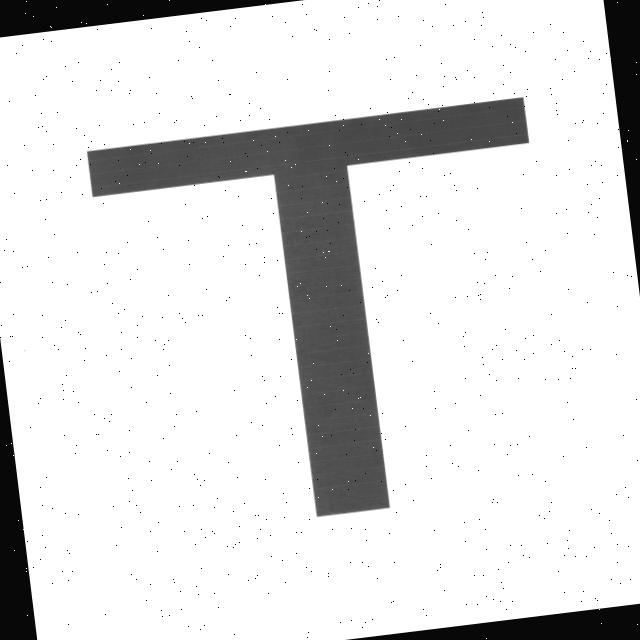t: (61, 64, 603, 584)
